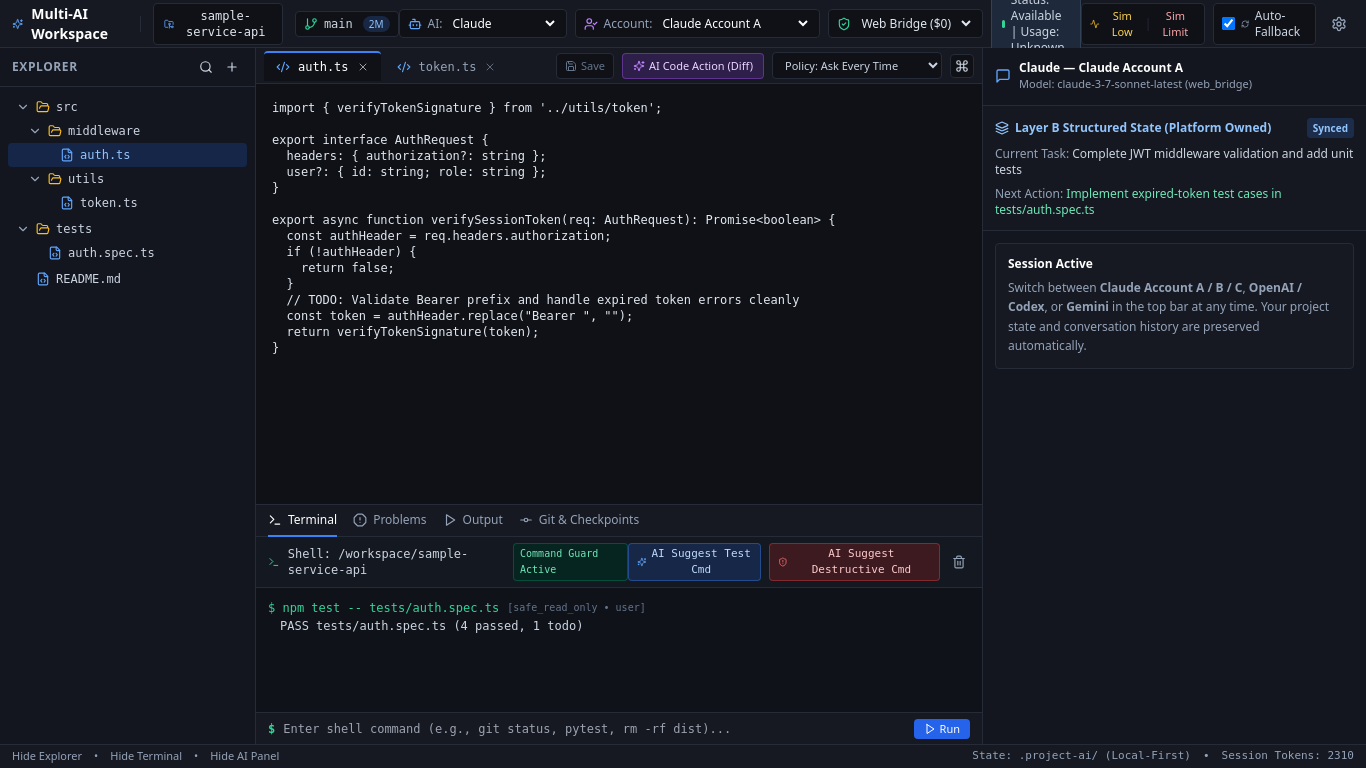
Phase 2: Project & Workspace Management (.project-ai/) › opens the Project Switcher Modal and verifies all 9 .project-ai/ subdirectories
What coordinates should you click on to do the following:
click the button with test id "open-project-switcher-btn"
I would click on:
 (218, 24)
Its box is [153, 2, 283, 44].
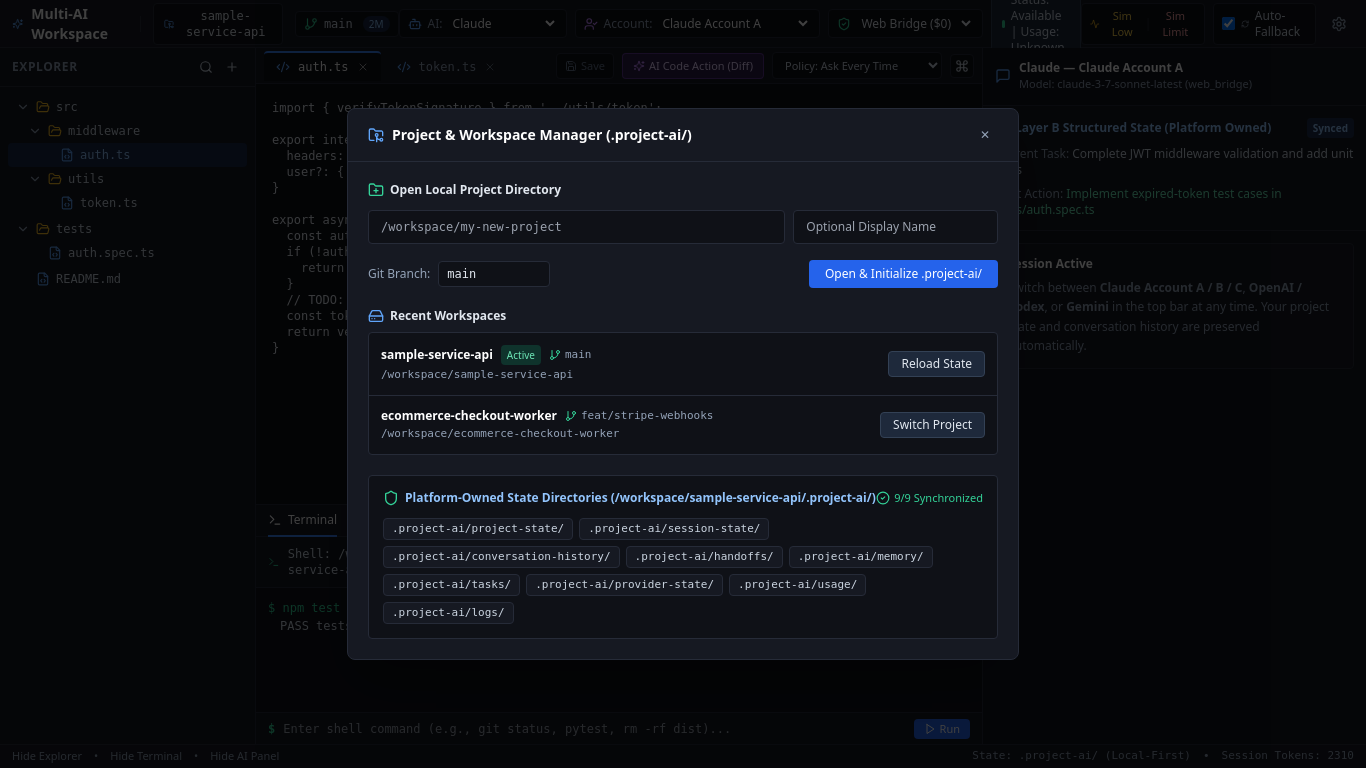
Now the element with test id "project-switcher-modal" is shown
Now the element with test id "project-ai-directory-badges" shows ".project-ai/project-state/", box [383, 514, 983, 624]
Now the element with test id "project-ai-directory-badges" shows ".project-ai/session-state/", box [383, 514, 983, 624]
